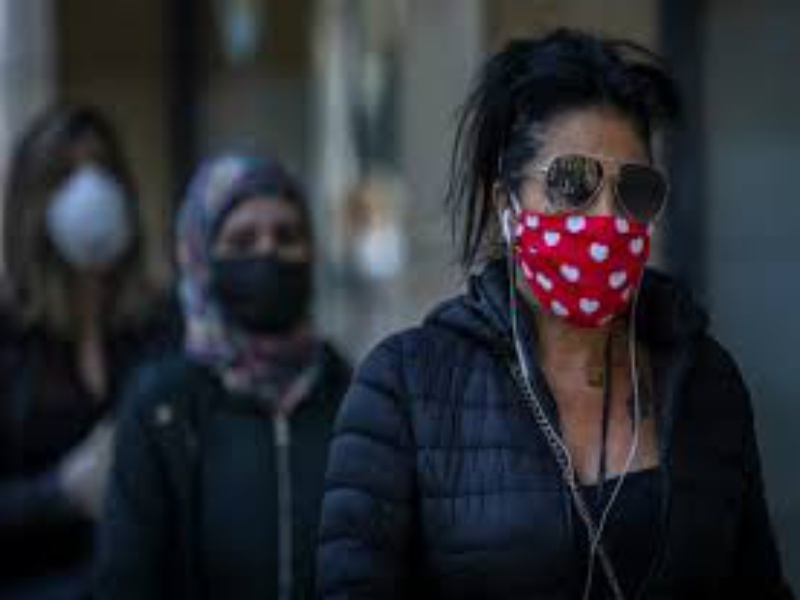ManaoArotava: (494, 54, 689, 350), (170, 155, 343, 366), (13, 96, 167, 302)
